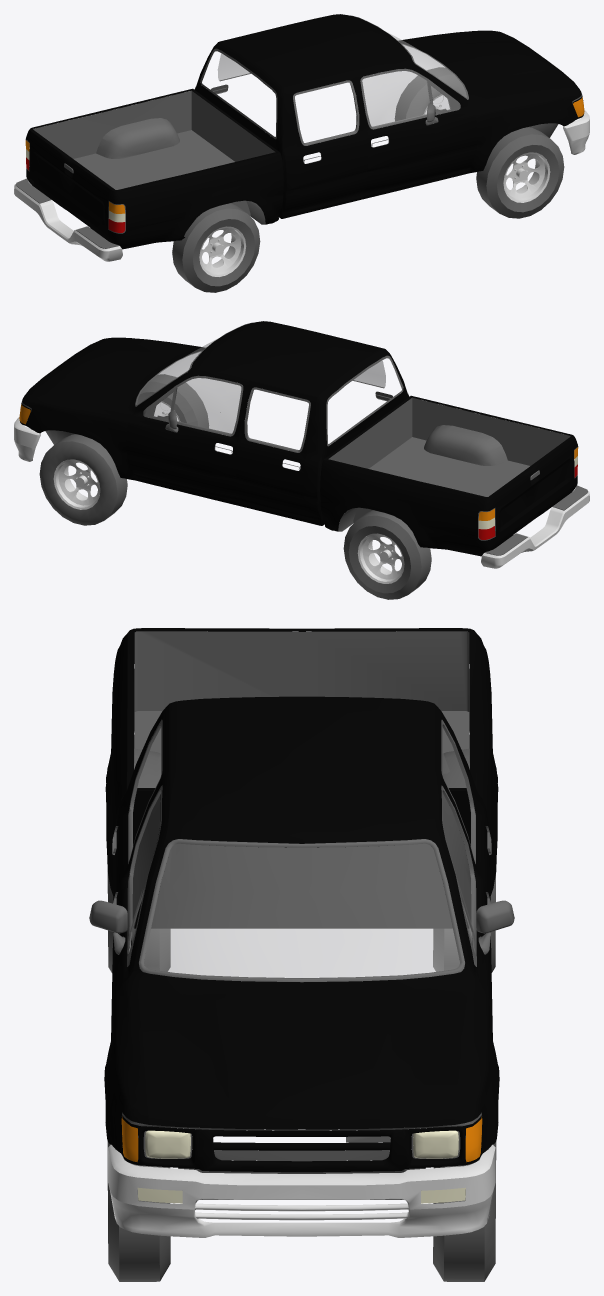
File: hilux.glb
The picture shows the model from 3 angles, top to bottom: view 1: azimuth 30°, elevation 25°; view 2: azimuth 150°, elevation 25°; view 3: azimuth 270°, elevation 25°; orthographic projection. The views are drawn at different scales.
Visible parts, largest first — view 1: material_2_16, material_5_16, material_0_16, material_6_16; view 2: material_2_16, material_5_16, material_0_16, material_6_16; view 3: material_2_16, material_5_16, material_6_16, material_0_16, material_4_16, material_3_16.
Boxes of the visible parts, <box> form: material_2_16: <box>26,14,583,249</box>; material_5_16: <box>16,15,581,292</box>; material_0_16: <box>14,94,589,276</box>; material_6_16: <box>217,31,466,126</box>; material_2_16: <box>20,321,577,556</box>; material_5_16: <box>22,322,587,599</box>; material_0_16: <box>14,401,589,583</box>; material_6_16: <box>137,338,385,433</box>; material_2_16: <box>104,628,499,1172</box>; material_5_16: <box>89,631,514,1281</box>; material_6_16: <box>127,752,472,977</box>; material_0_16: <box>108,1144,495,1237</box>; material_4_16: <box>137,1130,465,1203</box>; material_3_16: <box>121,1117,482,1162</box>.
Size of the model in its own units: 475 by 162 by 176.
